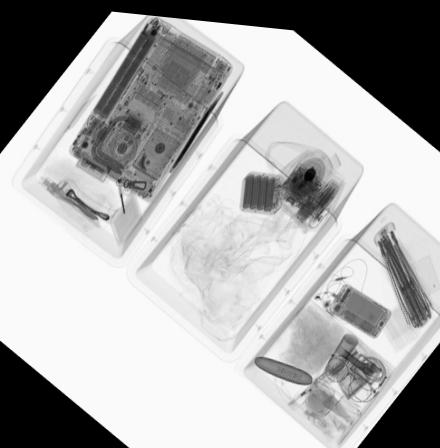Powerbank: (240, 167, 281, 205)
